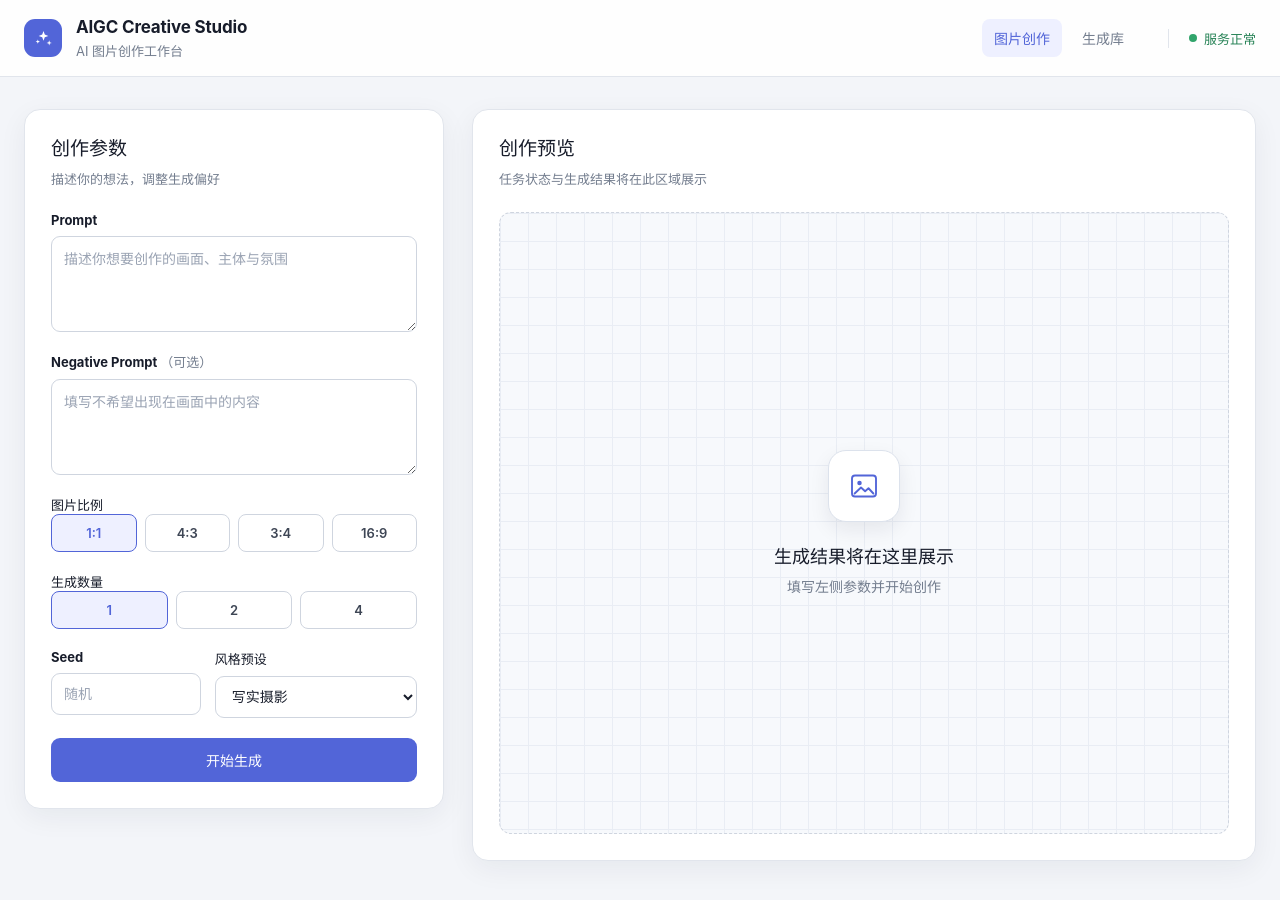
Test: CreatePage generation failures › shows the backend task failure reason
Type "测试生成失败" into the text box labelled "Prompt" at (234,284), box [51,236,417,332]
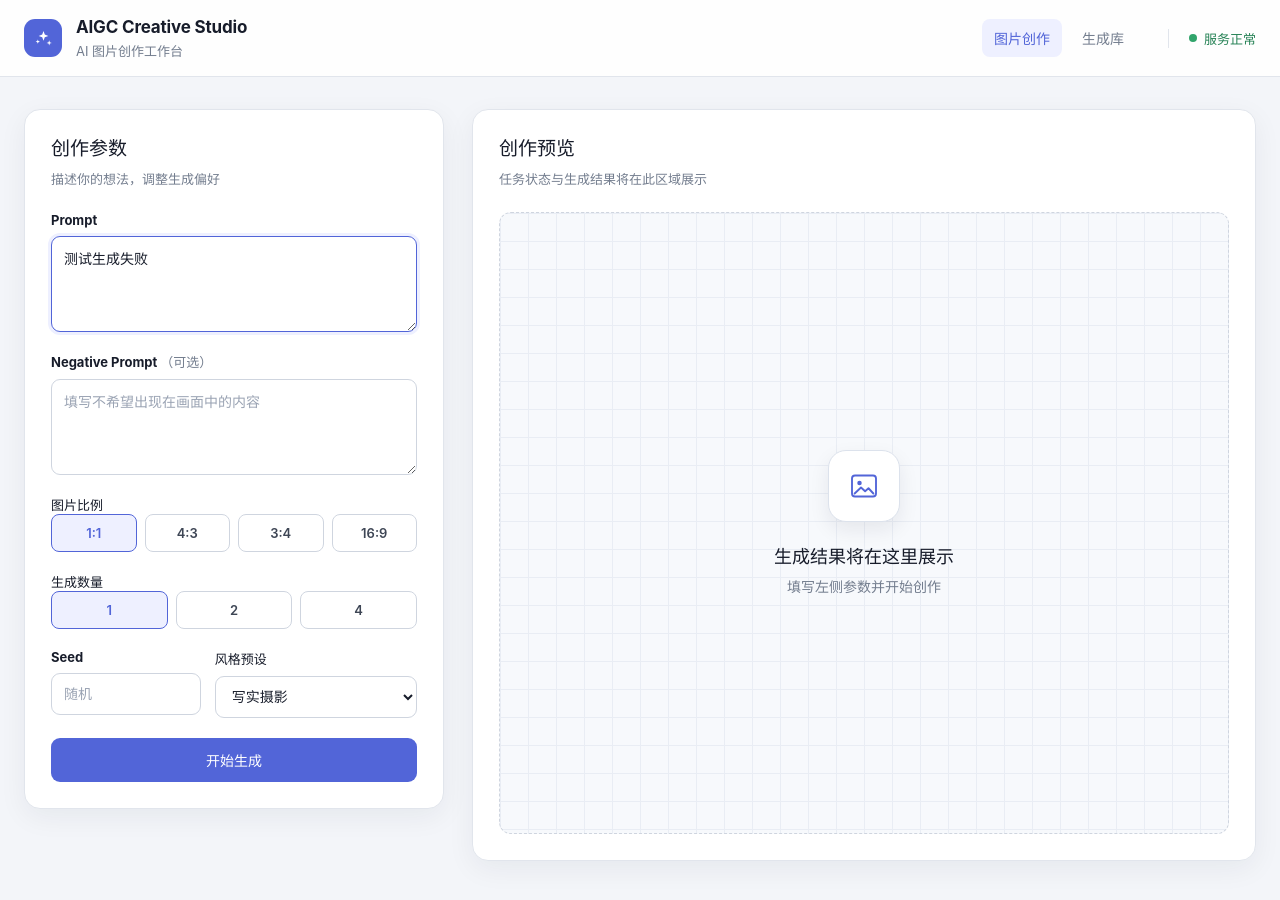
Click the button "开始生成" at (234,760), box [51,738,417,782]
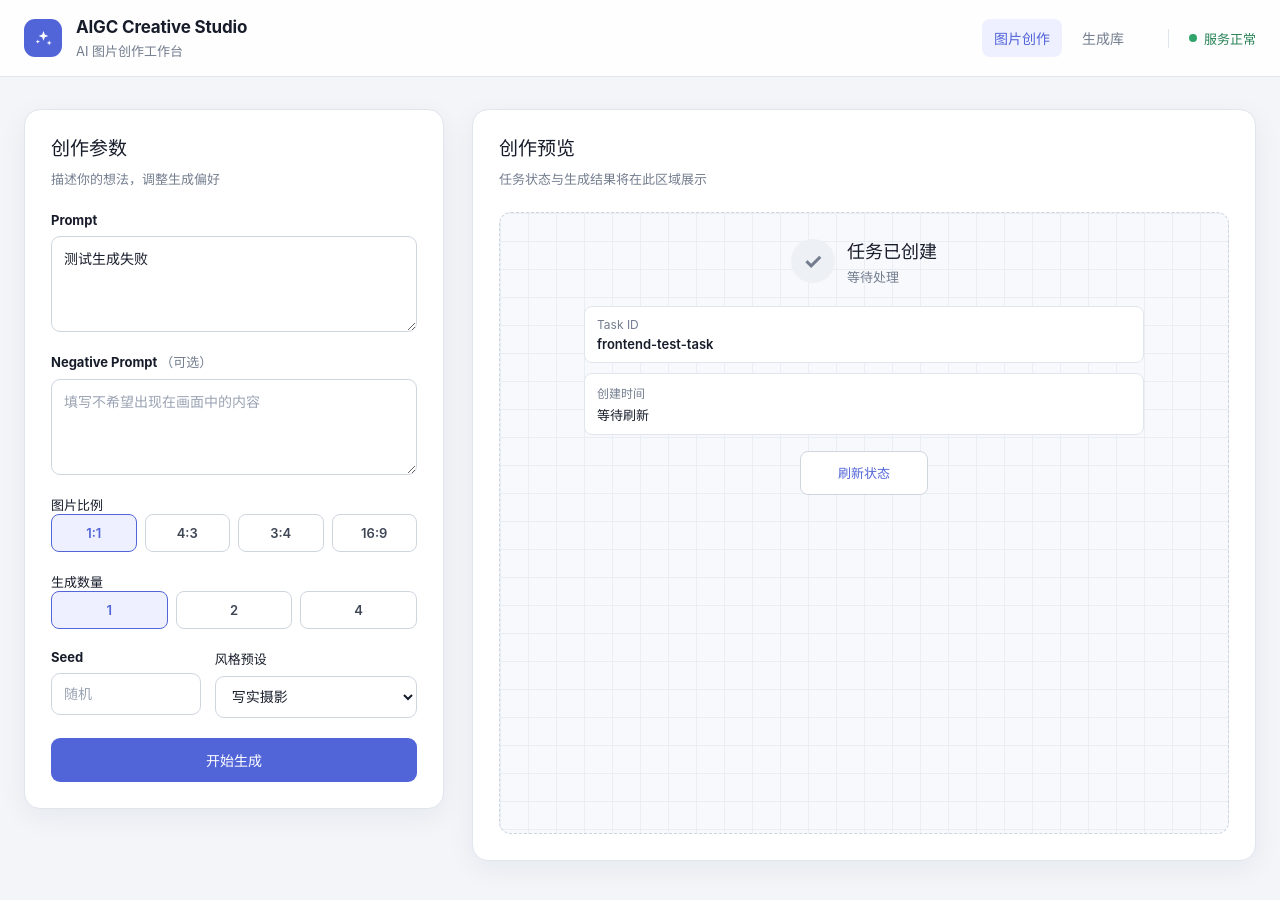
Click the button "刷新状态" at (864,473), box [800,451,928,495]
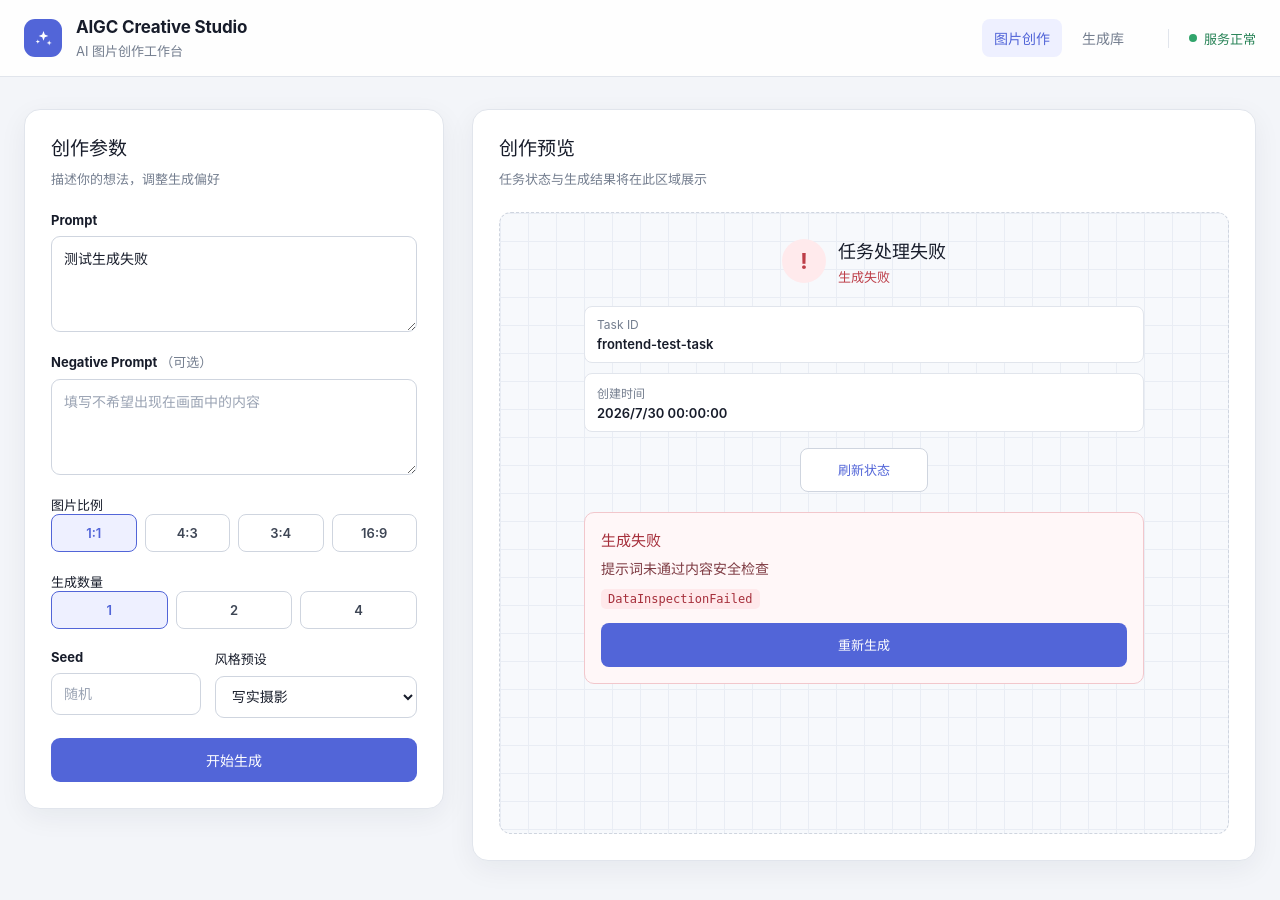
Expected: the heading "生成失败" is shown, [601,531,661,550]
Expected: the text "提示词未通过内容安全检查" is shown, [601,560,769,577]
Expected: the text "DataInspectionFailed" is shown, [601,589,760,609]
